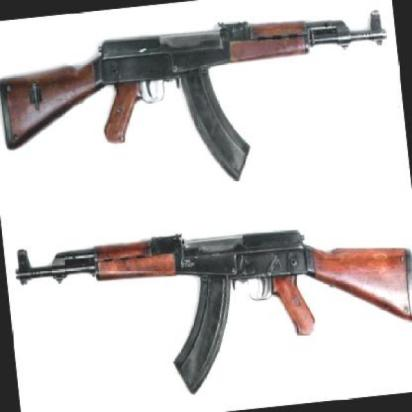Gun: (9, 189, 412, 412)
